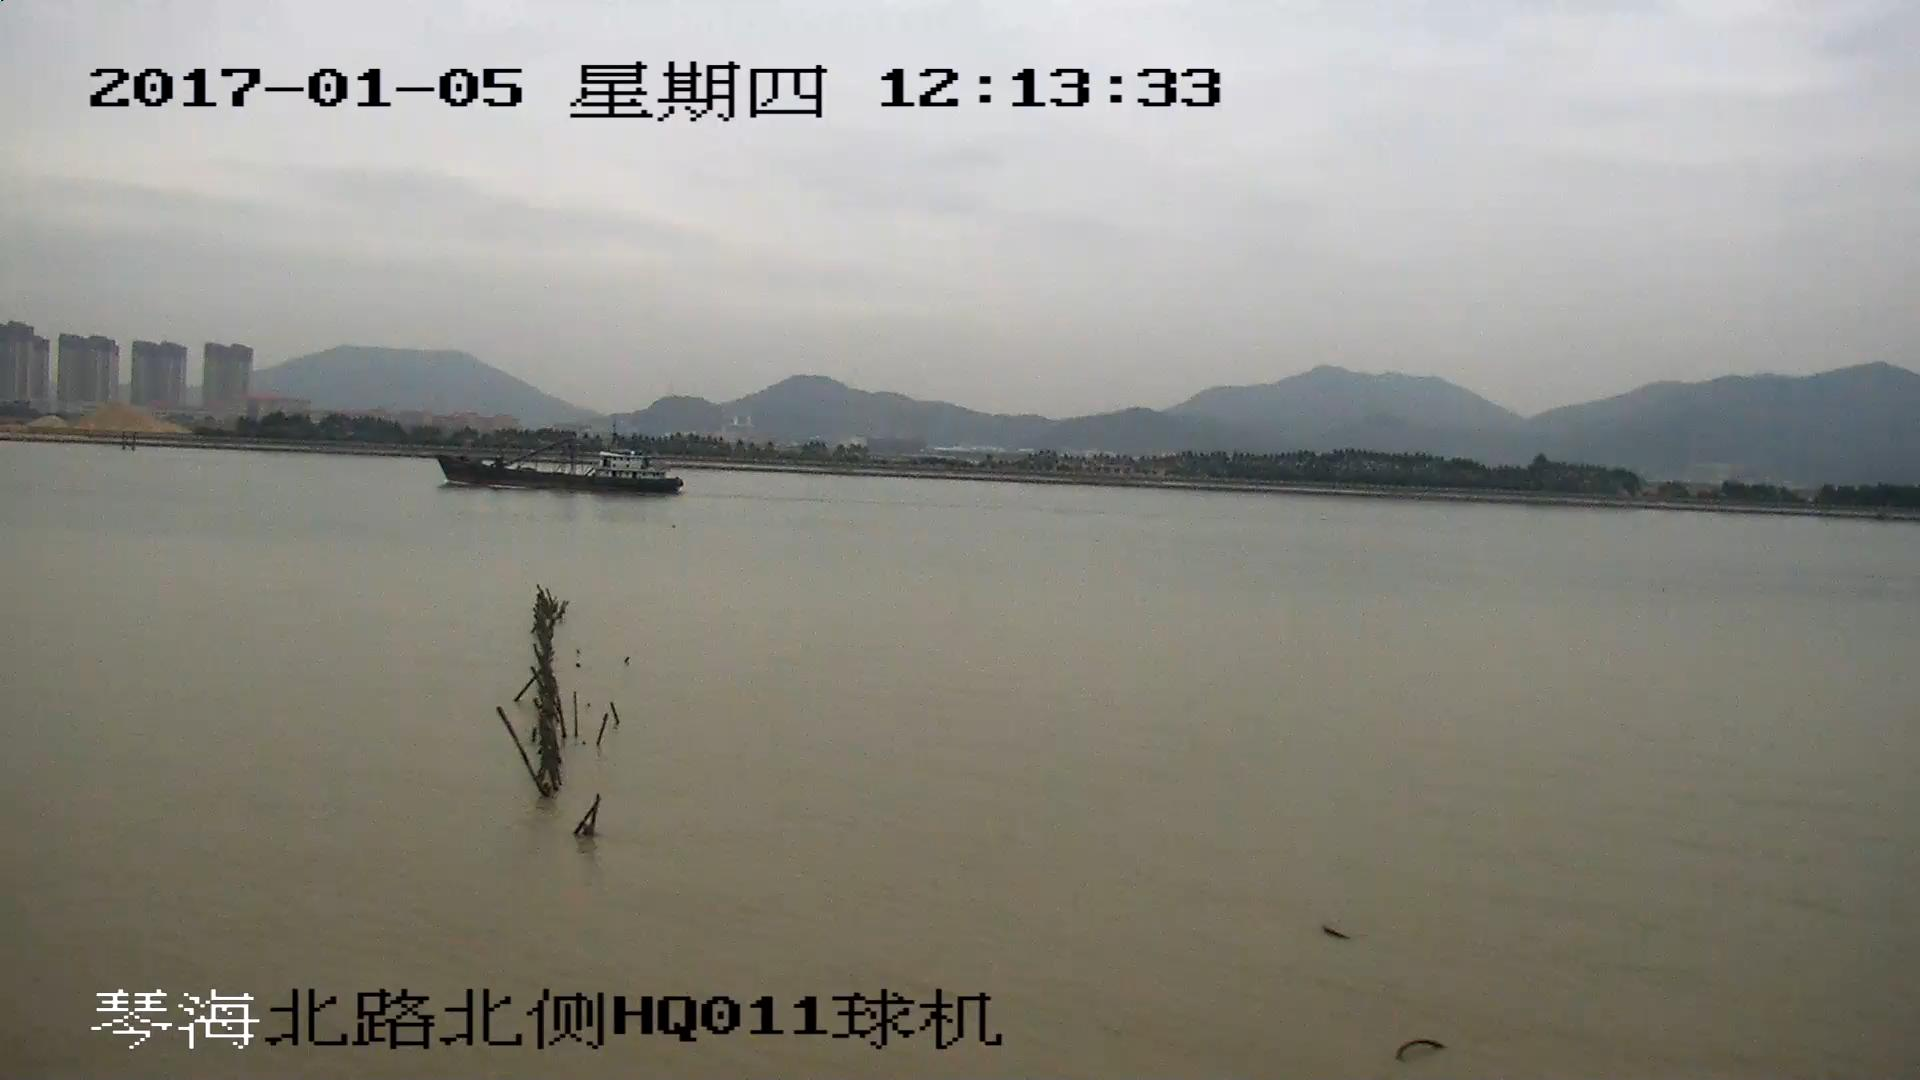fishing boat: (438, 418, 687, 490)
